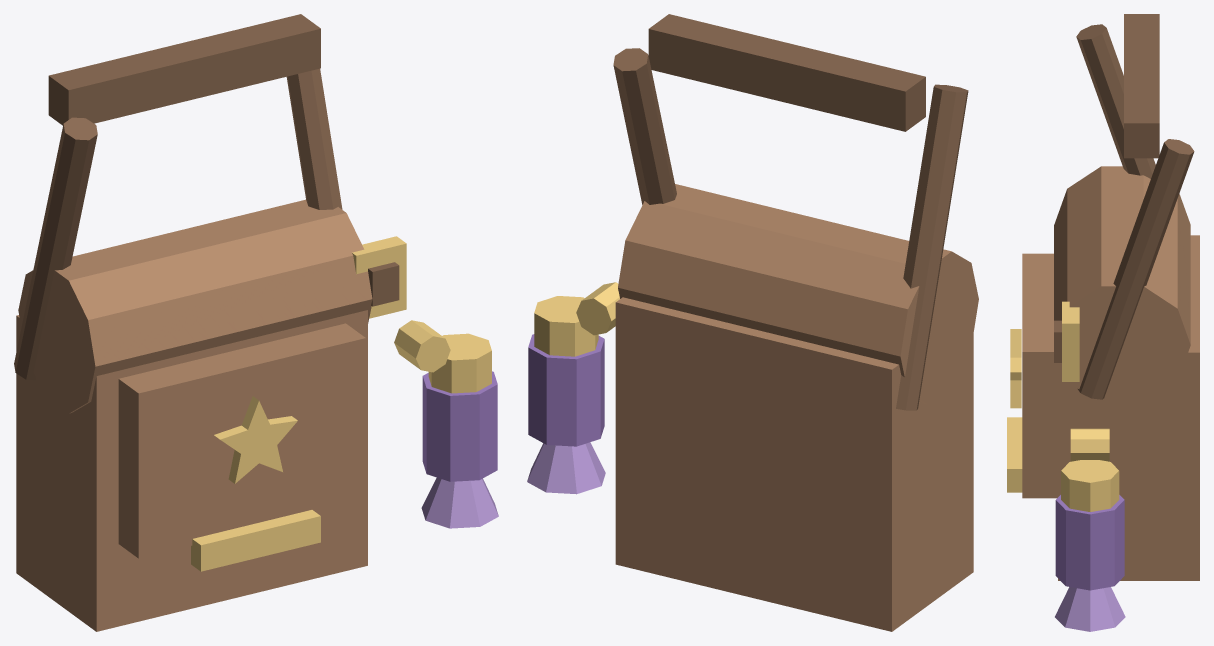
3 renders of one model, left to right at view 1: azimuth 30°, elevation 25°; view 2: azimuth 150°, elevation 25°; view 3: azimuth 270°, elevation 25°, orthographic. The views are drawn at different scales.
Visible parts, largest first — view 1: front flap soft trapezoid block, rolled top cylinder flap hinge, rounded square leather bag body, blocky leather strap top, left leather strap side, purple potion gem body, right leather strap side, lower gold chevron trim, simple gold star charm on satchel flap, purple potion point bottom, tiny potion gold cap, small gold side buckle outer (+2 smaller); view 2: rounded square leather bag body, rolled top cylinder flap hinge, blocky leather strap top, left leather strap side, purple potion gem body, right leather strap side, purple potion point bottom, tiny potion gold cap, gold ring holding potion; view 3: rolled top cylinder flap hinge, rounded square leather bag body, front flap soft trapezoid block, right leather strap side, purple potion gem body, blocky leather strap top, left leather strap side, tiny potion gold cap, purple potion point bottom, small gold side buckle outer, gold ring holding potion, lower gold chevron trim (+2 smaller).
Boxes of the visible parts, <box> form: front flap soft trapezoid block: <box>118,323,365,558</box>; rolled top cylinder flap hinge: <box>18,199,372,413</box>; rounded square leather bag body: <box>16,310,367,631</box>; blocky leather strap top: <box>48,14,320,125</box>; left leather strap side: <box>14,117,97,380</box>; purple potion gem body: <box>422,371,497,481</box>; right leather strap side: <box>286,68,342,209</box>; lower gold chevron trim: <box>191,510,320,571</box>; simple gold star charm on satchel flap: <box>214,396,297,483</box>; purple potion point bottom: <box>421,477,498,528</box>; tiny potion gold cap: <box>428,333,491,393</box>; small gold side buckle outer: <box>352,236,406,318</box>; rounded square leather bag body: <box>615,297,973,631</box>; rolled top cylinder flap hinge: <box>618,184,978,404</box>; blocky leather strap top: <box>648,14,925,131</box>; left leather strap side: <box>896,84,968,410</box>; purple potion gem body: <box>528,334,604,446</box>; right leather strap side: <box>613,48,676,204</box>; purple potion point bottom: <box>527,442,605,494</box>; tiny potion gold cap: <box>534,296,598,356</box>; gold ring holding potion: <box>576,282,619,335</box>; rolled top cylinder flap hinge: <box>1054,166,1190,403</box>; rounded square leather bag body: <box>1058,235,1199,580</box>; front flap soft trapezoid block: <box>1022,253,1057,498</box>; right leather strap side: <box>1078,139,1194,399</box>; purple potion gem body: <box>1055,495,1124,590</box>; blocky leather strap top: <box>1124,14,1159,158</box>; left leather strap side: <box>1076,24,1155,178</box>; tiny potion gold cap: <box>1061,460,1119,511</box>; purple potion point bottom: <box>1055,587,1125,631</box>; small gold side buckle outer: <box>1062,301,1079,381</box>; gold ring holding potion: <box>1070,428,1109,461</box>; lower gold chevron trim: <box>1007,417,1022,492</box>.
Size of the model in its own units: 1.36 by 1.55 by 0.5975.
